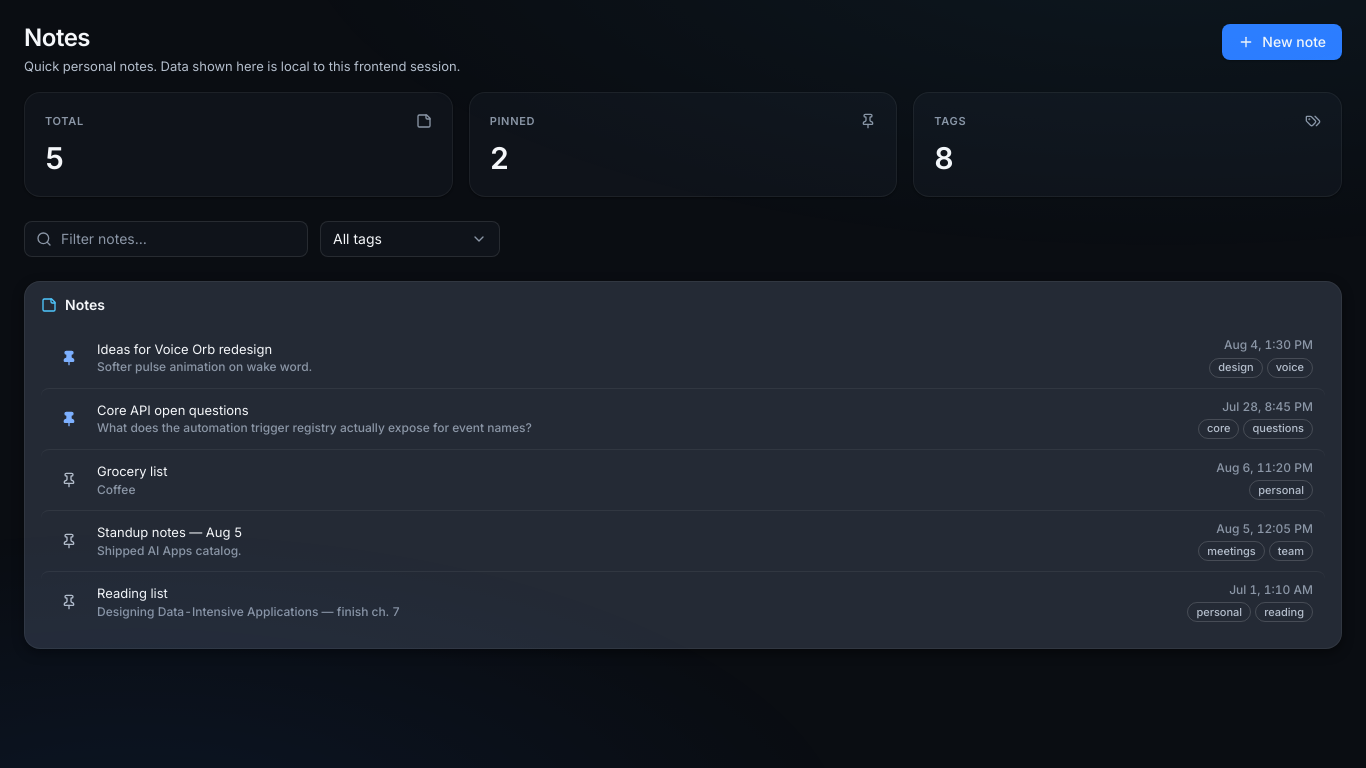
Test: NotesPage › filters notes by search text
Expected: the button with test id "note-row-note-1" is shown, [41,328,1325,388]
Type "grocery" into the search field with test id "notes-filter-input" at (166, 239), box [24,221,308,257]
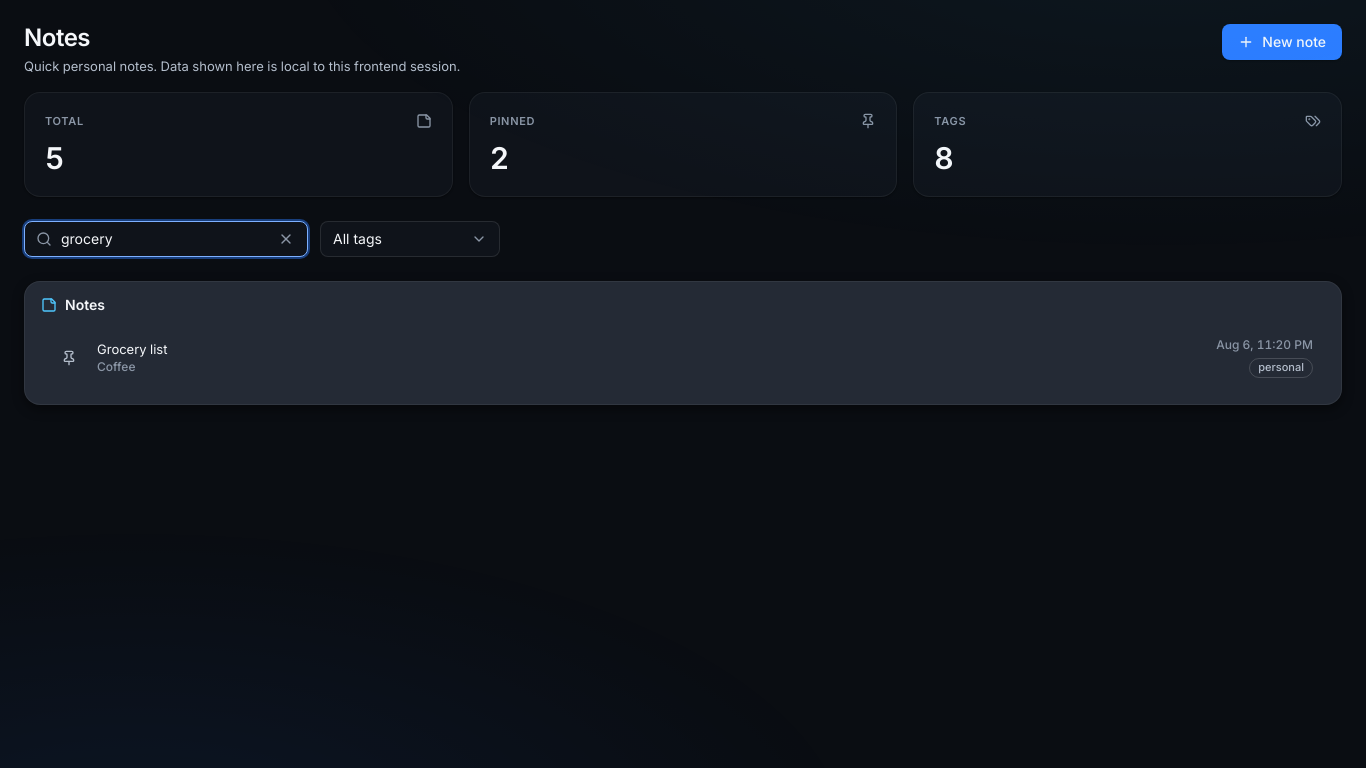
Expected: the button with test id "note-row-note-4" is shown, [41,328,1325,388]
Expected: the button with test id "note-row-note-1" is gone
